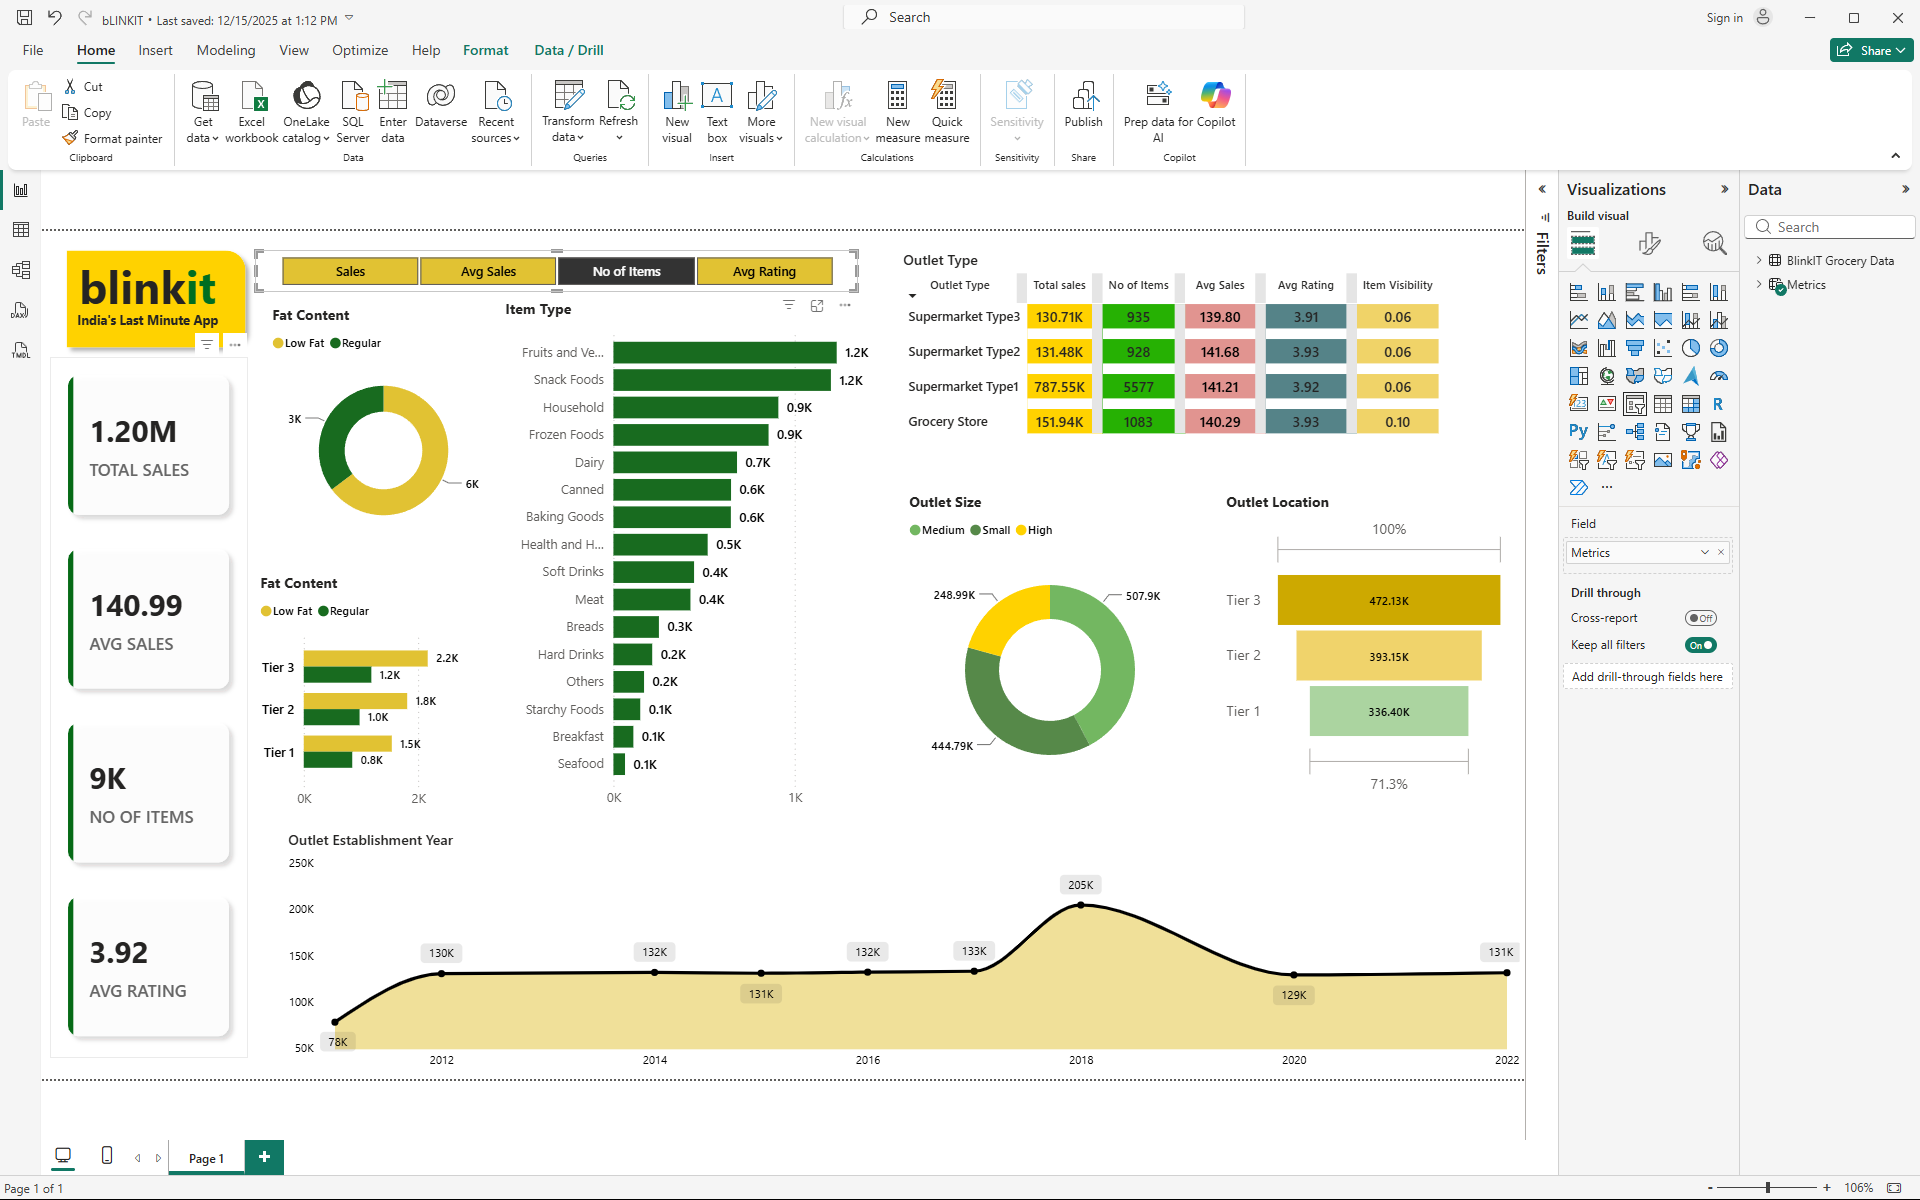

This screenshot's page, from the dashboard's own definition file:
{"tool":"powerbi","page":{"name":"Page 1","canvas":[1400,800],"ordinal":0},"visuals":[{"type":"shape","box":[15.1,9.4,186.8,109.4],"z":0},{"type":"textbox","box":[249.1,663.2,184,79.2],"z":1000},{"type":"textbox","box":[31.1,17.9,164.2,75.5],"z":2000},{"type":"textbox","box":[29.2,69.8,166,30.2],"z":3000},{"type":"cardVisual","fields":{"Data":["BlinkIT Grocery Data.Total sales","BlinkIT Grocery Data.Avg Sales","BlinkIT Grocery Data.No of Items","BlinkIT Grocery Data.Avg Rating"]},"box":[8.5,118.9,186.8,661.3],"z":4000},{"type":"donutChart","title":"Fat Content","fields":{"Y":["BlinkIT Grocery Data.Avg Sales"],"Category":["BlinkIT Grocery Data.Item Fat Content"]},"box":[213.2,69.8,219.8,230.2],"z":5000},{"type":"clusteredBarChart","title":"Fat Content","fields":{"Y":["BlinkIT Grocery Data.Avg Sales"],"Category":["BlinkIT Grocery Data.Outlet Location Type"],"Series":["BlinkIT Grocery Data.Item Fat Content"]},"box":[201.9,322.6,219.8,230.2],"z":6000},{"type":"barChart","title":" Item Type","fields":{"Y":["BlinkIT Grocery Data.Avg Sales"],"Category":["BlinkIT Grocery Data.Item Type"]},"box":[433,64.2,375.5,488.7],"z":7000},{"type":"slicer","fields":{"Values":["Metrics.Metrics"]},"box":[201.9,17.9,568.9,39.6],"z":8000},{"type":"lineChart","title":"Outlet Establishment Year","fields":{"Y":["BlinkIT Grocery Data.Total sales"],"Category":["BlinkIT Grocery Data.Outlet Establishment Year"]},"box":[228.3,565.1,1171.7,234.9],"z":9000},{"type":"donutChart","title":"Outlet Size","fields":{"Y":["BlinkIT Grocery Data.Total sales"],"Category":["BlinkIT Grocery Data.Outlet Size"]},"box":[814.2,246.2,275.5,291.5],"z":10000},{"type":"funnel","title":" Outlet Location ","fields":{"Y":["Sum(BlinkIT Grocery Data.Sales)"],"Category":["BlinkIT Grocery Data.Outlet Location Type"]},"box":[1113.2,246.2,273.6,291.5],"z":11000},{"type":"pivotTable","title":"Outlet Type","fields":{"Rows":["BlinkIT Grocery Data.Outlet Type"],"Values":["BlinkIT Grocery Data.Total sales","BlinkIT Grocery Data.No of Items","BlinkIT Grocery Data.Avg Sales","BlinkIT Grocery Data.Avg Rating","Avg(BlinkIT Grocery Data.Item Visibility)"]},"box":[808.5,17.9,578.3,198.1],"z":12000}]}

Visuals, with their boxes on the page's 1400x800 design canvas (x1, y1, x2, y2). These are canvas units, not pixel positions in the 1920x1200 screenshot, which may show the page scaled, cropped or inside an application window:
shape: rect(15, 9, 202, 119)
textbox: rect(249, 663, 433, 742)
textbox: rect(31, 18, 195, 93)
textbox: rect(29, 70, 195, 100)
cardVisual - BlinkIT Grocery Data.Total sales x BlinkIT Grocery Data.Avg Sales: rect(8, 119, 195, 780)
"Fat Content" donutChart: rect(213, 70, 433, 300)
"Fat Content" clusteredBarChart: rect(202, 323, 422, 553)
" Item Type" barChart: rect(433, 64, 808, 553)
slicer - Metrics.Metrics: rect(202, 18, 771, 58)
"Outlet Establishment Year" lineChart: rect(228, 565, 1400, 800)
"Outlet Size" donutChart: rect(814, 246, 1090, 538)
" Outlet Location " funnel: rect(1113, 246, 1387, 538)
"Outlet Type" pivotTable: rect(808, 18, 1387, 216)
